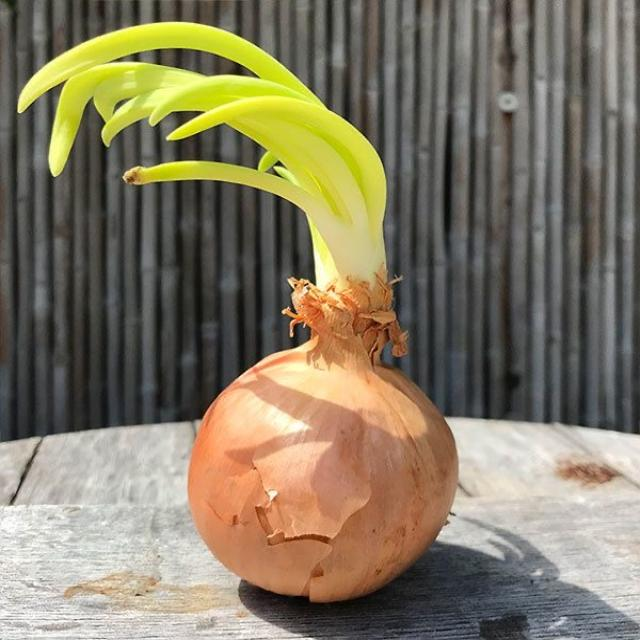sprouting: (39, 22, 469, 612)
